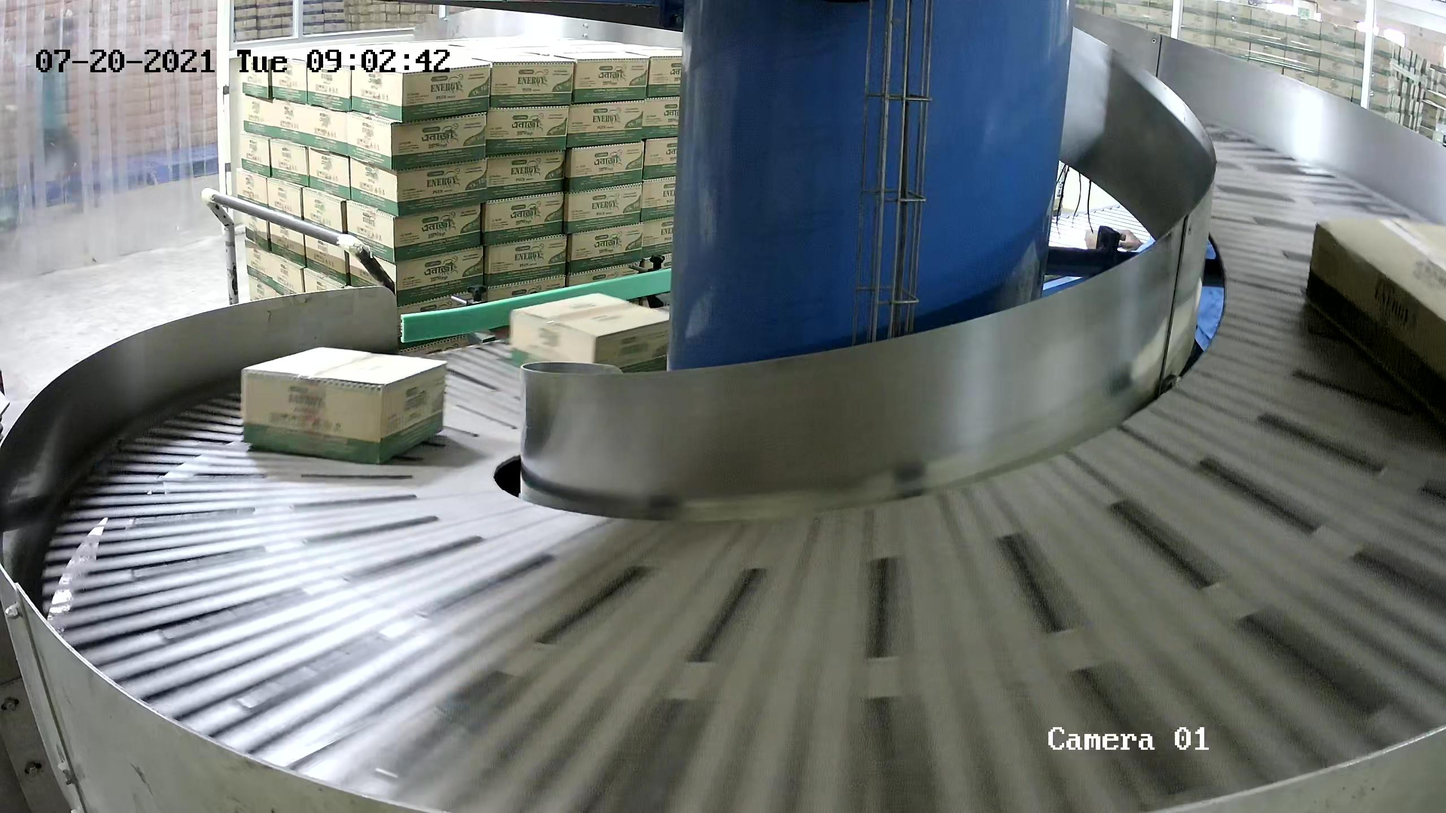Box: (1303, 215, 1446, 434), (240, 344, 449, 467), (508, 290, 671, 385)
